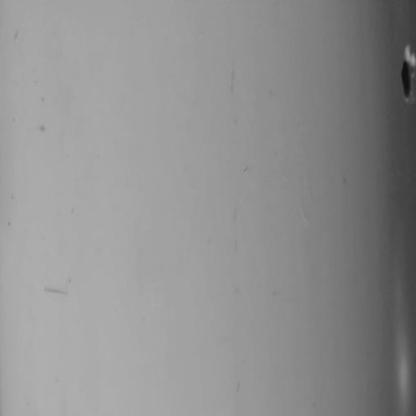kongdong: (391, 36, 416, 117)
